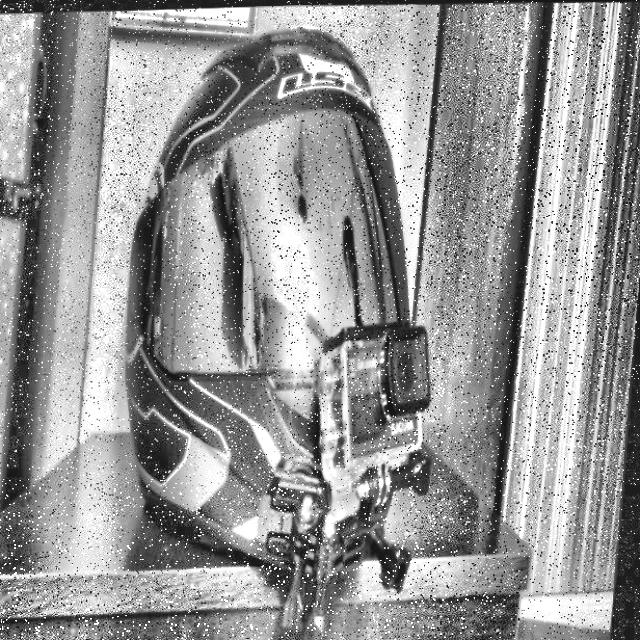Helmet: (98, 6, 474, 640)
